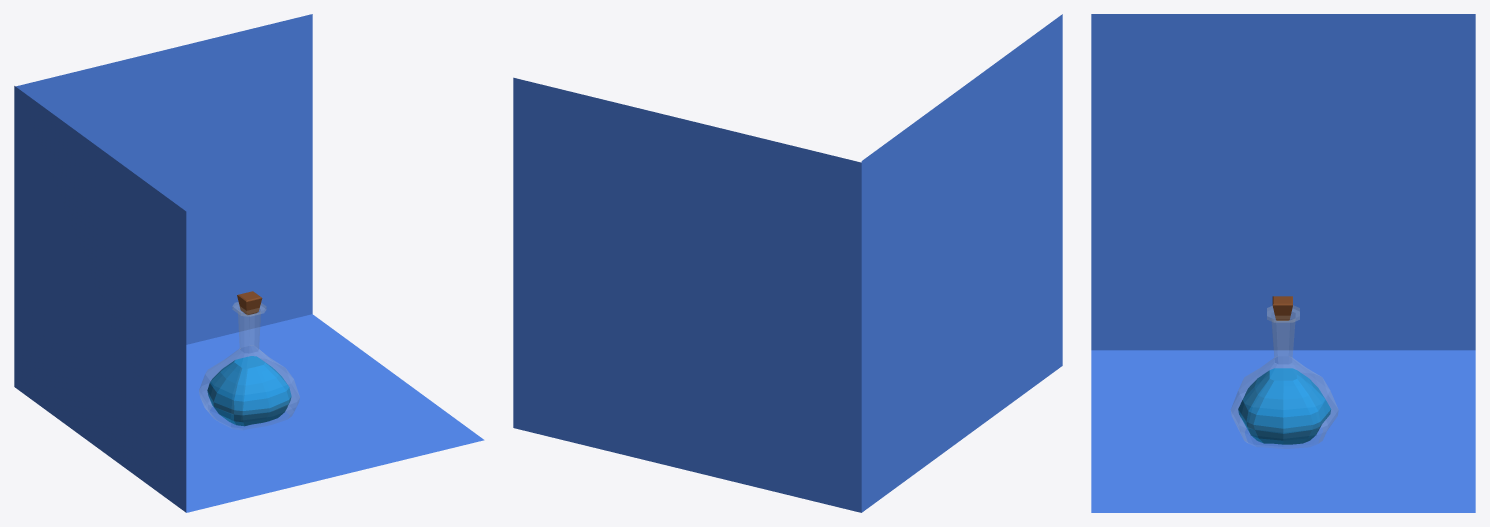
The model's file is Potion-blue.fbx.
3 views of the same model, side by side, from view 1: azimuth 30°, elevation 25°; view 2: azimuth 150°, elevation 25°; view 3: azimuth 270°, elevation 25° (orthographic). The views are drawn at different scales.
Parts seen in each view (by area): view 1: Plane, Cube.001, Cube.002; view 2: Plane; view 3: Plane, Cube.001, Cube.002, Cube.
Boxes of the visible parts, <box> form: Plane: <box>14,14,484,512</box>; Cube.001: <box>199,302,299,429</box>; Cube.002: <box>207,356,291,426</box>; Plane: <box>513,14,1062,512</box>; Plane: <box>1091,14,1475,512</box>; Cube.001: <box>1231,305,1338,448</box>; Cube.002: <box>1238,368,1331,444</box>; Cube: <box>1272,296,1292,320</box>.
Bounding box in the file's own units: 801 × 798 × 801.
